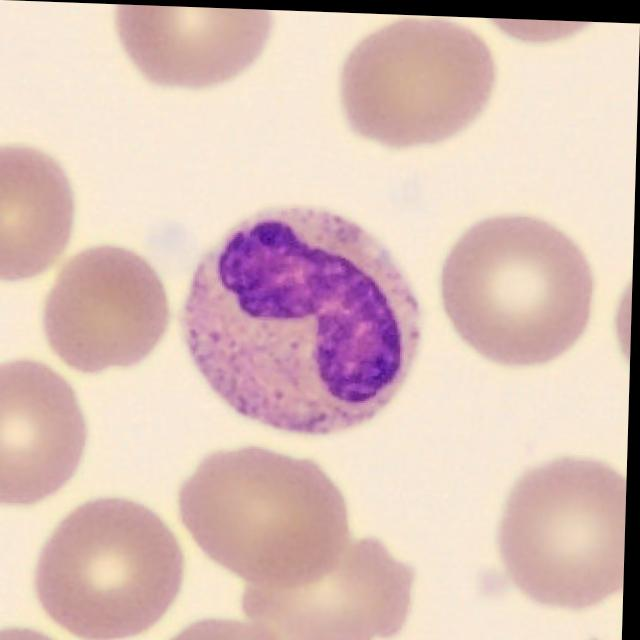Basofilo: (197, 204, 424, 434)
